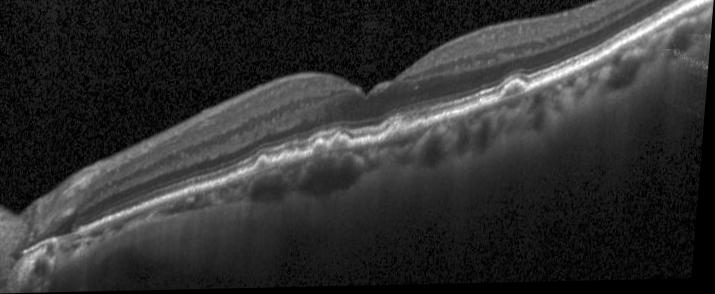lamellar_macular_rupture: (346, 74, 405, 98)
retinal_drusen: (506, 86, 526, 99), (390, 129, 407, 143), (334, 139, 350, 151), (316, 146, 330, 157), (259, 161, 268, 171)
